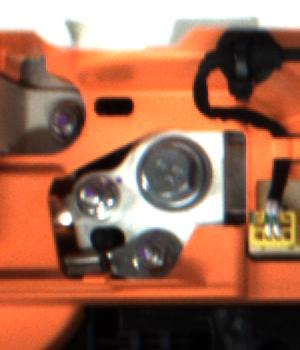nut_b: (130, 129, 213, 216)
